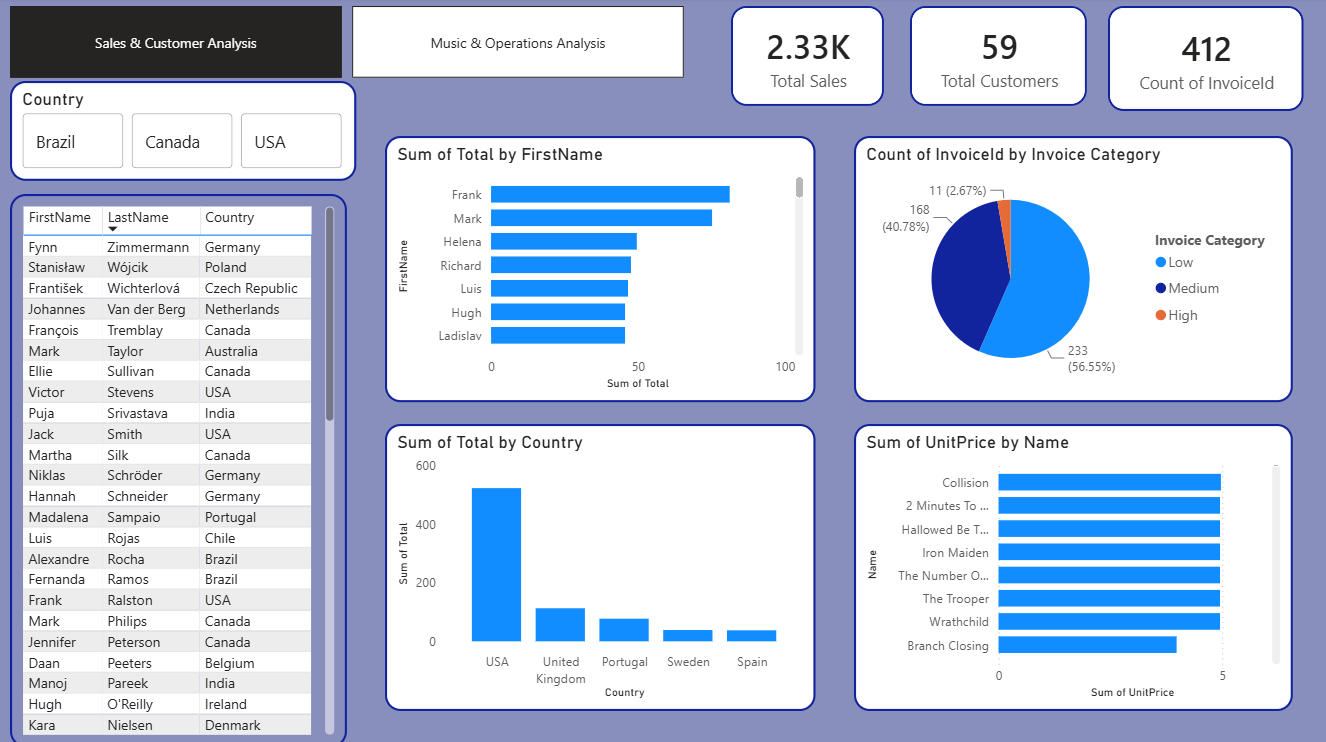

What the dashboard file says about the page in this screenshot:
{"tool":"powerbi","page":{"name":"Sales & Customer Analysis","canvas":[1280,720],"ordinal":0},"visuals":[{"type":"barChart","fields":{"Category":["Customer.FirstName"],"Y":["Sum(Invoice.Total)"]},"box":[373.1,132.7,414.5,255.8],"z":0},{"type":"columnChart","fields":{"Category":["Customer.Country"],"Y":["Sum(Invoice.Total)"]},"box":[373.1,409.7,414.5,276],"z":1000},{"type":"pageNavigator","box":[12.5,7.7,649.1,69.2],"z":2000},{"type":"pieChart","fields":{"Y":["CountNonNull(Invoice.InvoiceId)"],"Category":["Invoice.Invoice Category"]},"box":[824.2,132.7,422.2,255.8],"z":3000},{"type":"cardVisual","fields":{"Data":["Invoice.Total Sales"]},"box":[705.9,7.7,147.1,96.2],"z":4000},{"type":"tableEx","fields":{"Values":["Customer.FirstName","Customer.LastName","Customer.Country"]},"box":[12.5,188.5,324.1,531.8],"z":5000},{"type":"advancedSlicerVisual","fields":{"Values":["Customer.Country"]},"box":[12.5,79.8,332.7,96.2],"z":6000},{"type":"cardVisual","fields":{"Data":["Customer.Total Customers"]},"box":[878,7.7,170.2,96.2],"z":7000},{"type":"cardVisual","fields":{"Data":["CountNonNull(Invoice.InvoiceId)"]},"box":[1068.4,7.7,188.5,101],"z":8000},{"type":"barChart","fields":{"Category":["Track.Name"],"Y":["Sum(Track.UnitPrice)"]},"box":[824.2,409.7,422.2,276],"z":9000}]}

Visuals, with their boxes in screenshot pixels (x1, y1, x2, y2), scaled from the page's 1280x720 canvas onto the 1326x742 screenshot:
barChart - Customer.FirstName x Sum(Invoice.Total): pyautogui.locateOnScreen(387, 137, 816, 400)
columnChart - Customer.Country x Sum(Invoice.Total): pyautogui.locateOnScreen(387, 422, 816, 707)
pageNavigator: pyautogui.locateOnScreen(13, 8, 685, 79)
pieChart - CountNonNull(Invoice.InvoiceId) x Invoice.Invoice Category: pyautogui.locateOnScreen(854, 137, 1291, 400)
cardVisual - Invoice.Total Sales: pyautogui.locateOnScreen(731, 8, 884, 107)
tableEx - Customer.FirstName x Customer.LastName: pyautogui.locateOnScreen(13, 194, 349, 741)
advancedSlicerVisual - Customer.Country: pyautogui.locateOnScreen(13, 82, 358, 181)
cardVisual - Customer.Total Customers: pyautogui.locateOnScreen(910, 8, 1086, 107)
cardVisual - CountNonNull(Invoice.InvoiceId): pyautogui.locateOnScreen(1107, 8, 1302, 112)
barChart - Track.Name x Sum(Track.UnitPrice): pyautogui.locateOnScreen(854, 422, 1291, 707)
